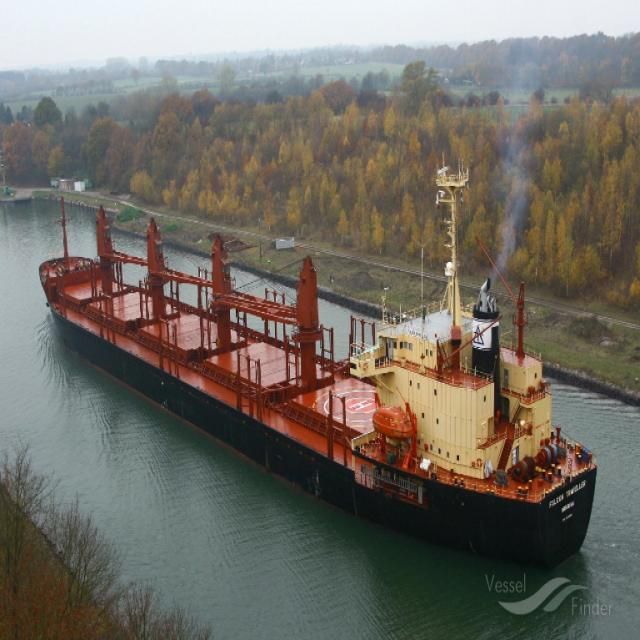Bulk Carrier: (38, 164, 597, 566)
